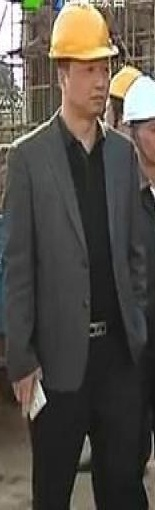hard-hat: (48, 0, 119, 61)
